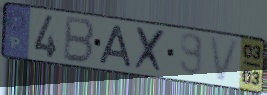4: (33, 12, 60, 60)
9: (179, 31, 205, 81)
A: (97, 23, 134, 69)
B: (61, 14, 96, 66)
V: (207, 35, 242, 84)
X: (133, 25, 168, 76)
